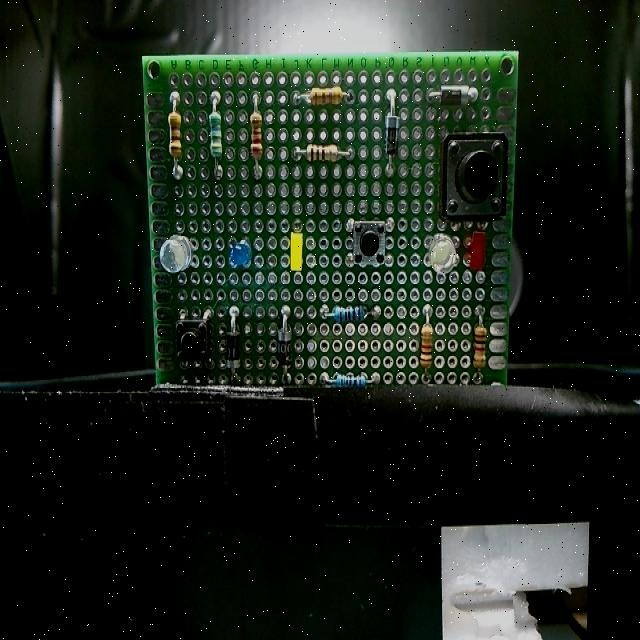diode: (437, 82, 469, 106), (225, 329, 242, 373), (276, 326, 292, 367), (384, 112, 399, 154)
led: (426, 233, 460, 277), (158, 235, 194, 273), (227, 236, 255, 270), (468, 228, 486, 272), (289, 229, 307, 271)
resistor: (306, 81, 344, 107), (248, 107, 266, 161), (167, 110, 185, 162), (330, 304, 366, 327), (473, 324, 489, 372), (330, 372, 370, 390), (420, 324, 436, 368), (210, 110, 223, 160), (304, 147, 340, 165)
switch: (442, 131, 507, 217), (352, 220, 387, 266), (174, 320, 208, 367)
